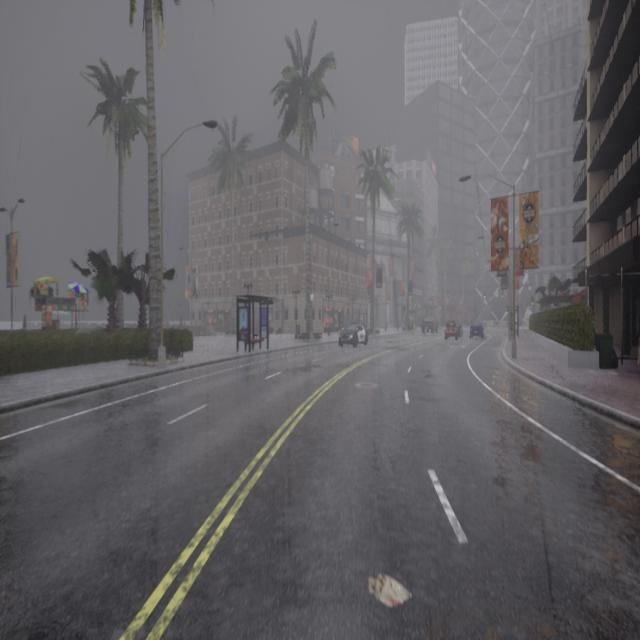bien_chi_dan: (501, 289, 504, 299), (531, 296, 534, 306), (484, 290, 486, 300), (501, 294, 504, 298), (531, 302, 534, 306), (483, 296, 486, 299)
